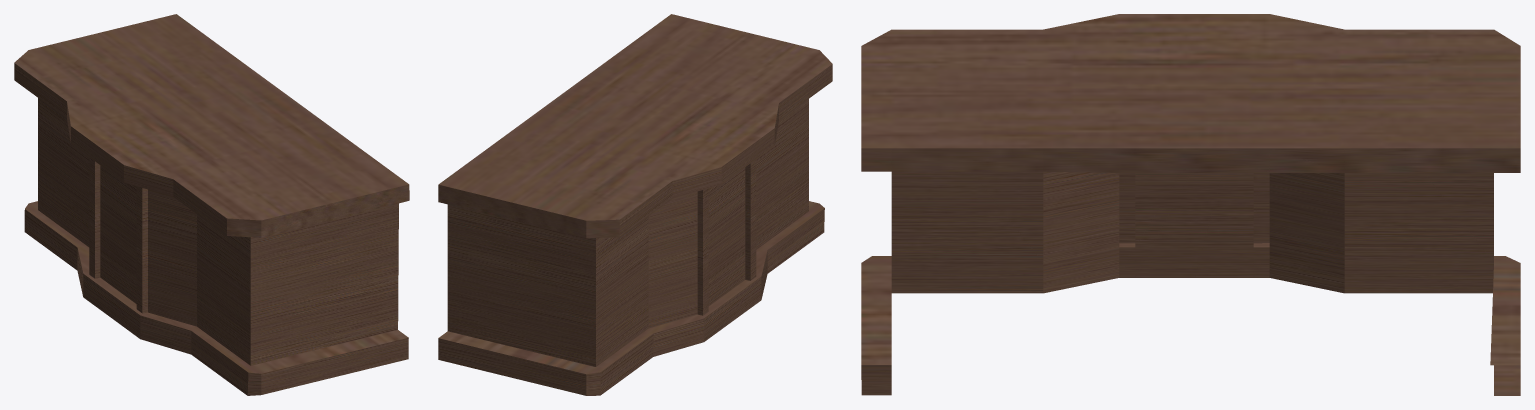
File: стол препода.fbx
The picture shows the model from 3 angles, left to right: view 1: azimuth 30°, elevation 25°; view 2: azimuth 150°, elevation 25°; view 3: azimuth 270°, elevation 25°; orthographic projection. The views are drawn at different scales.
Parts seen in each view (by area): view 1: Cube.002; view 2: Cube.002; view 3: Cube.002.
Part boxes in pixels (<box>): Cube.002: <box>14,14,409,395</box>; Cube.002: <box>438,14,832,395</box>; Cube.002: <box>861,14,1520,395</box>.
Bounding box in the file's own units: 471 × 408 × 976.
